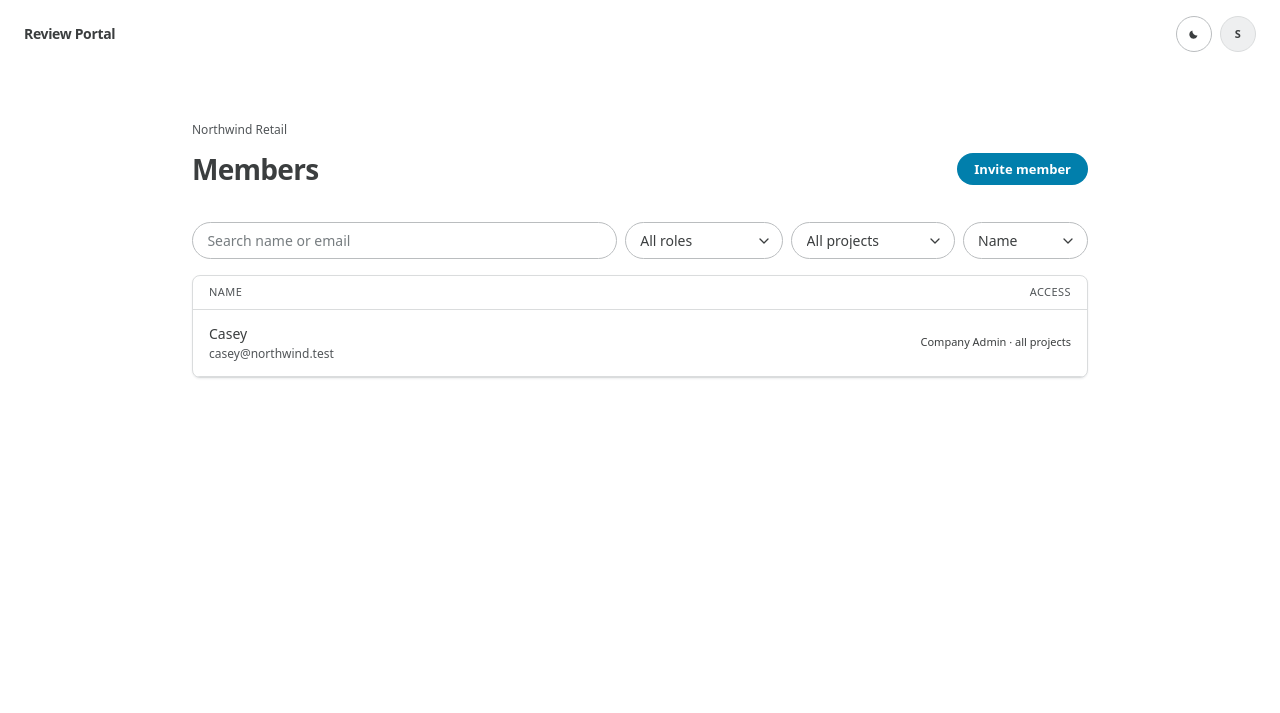
Test: deliverable viewer and members › navigates member directory rows
Expected: the heading "Members" is shown, [192,148,318,190]
Click the link "Casey casey@northwind.test Company Admin · all projects". click: (228, 333)
box: [193,310,1087,377]
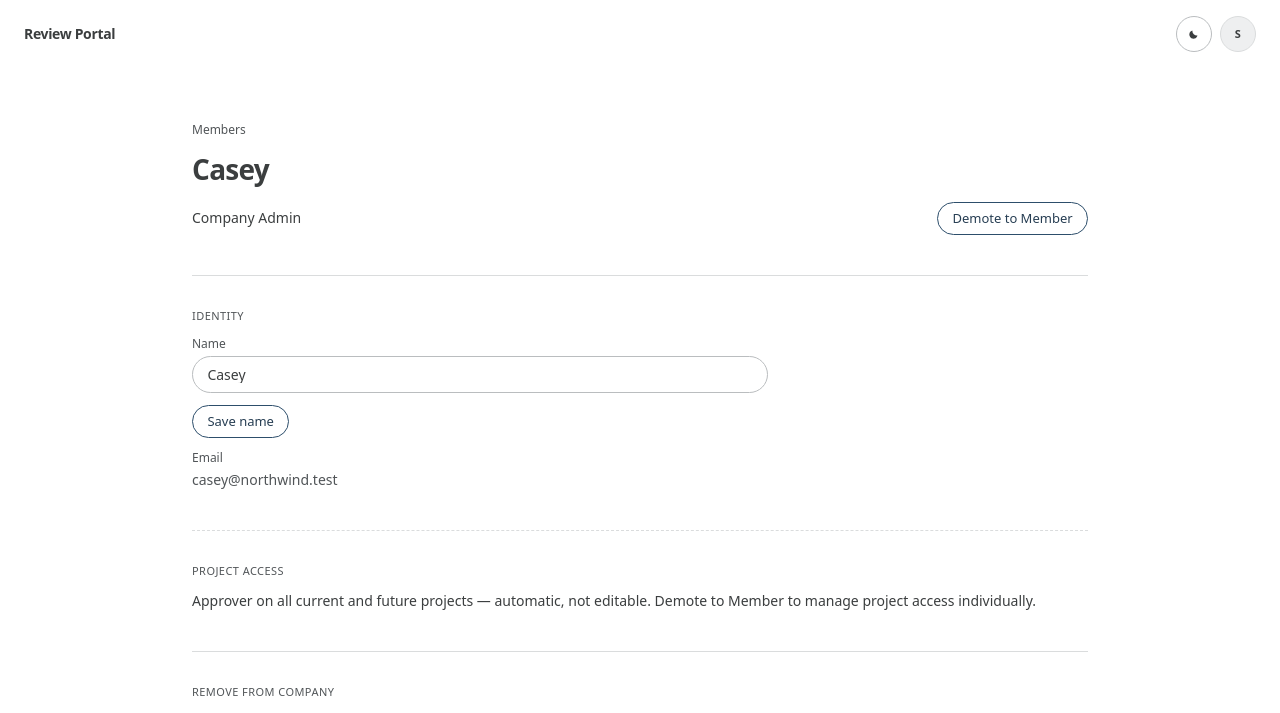
Expected: the heading "Casey" is shown, [192,148,269,190]
